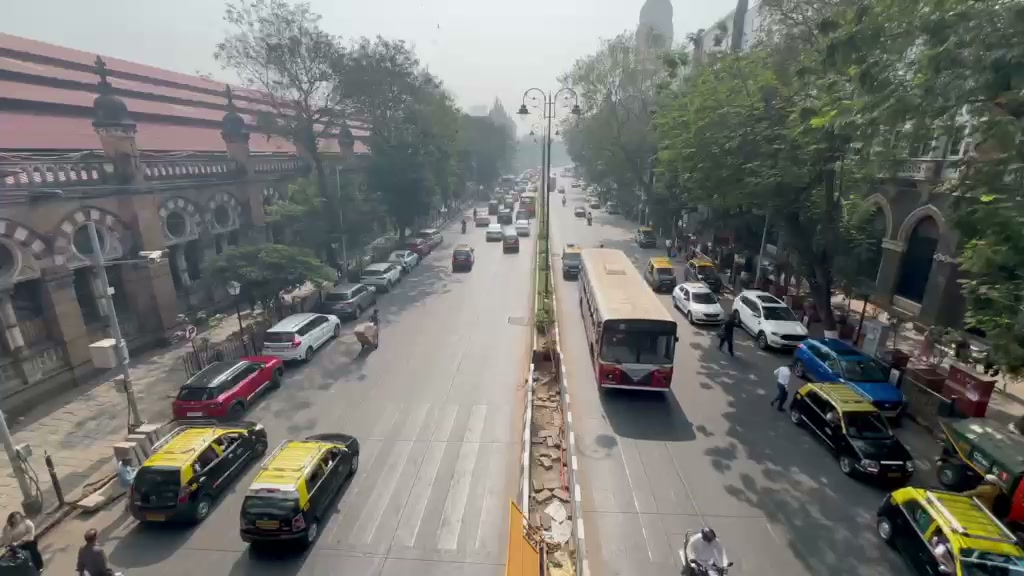bus: (577, 245, 679, 396)
car: (127, 422, 270, 525), (237, 431, 360, 547), (875, 486, 1024, 575), (788, 383, 915, 486), (790, 335, 908, 424), (936, 417, 1024, 527), (171, 354, 284, 422), (732, 290, 810, 352), (260, 311, 341, 365), (317, 280, 378, 322), (672, 281, 724, 327), (359, 262, 404, 293), (648, 257, 680, 294), (405, 230, 441, 256), (562, 243, 582, 281), (387, 249, 420, 271), (451, 244, 475, 272), (501, 226, 520, 253), (485, 224, 503, 241)
pedestrian: (2, 510, 44, 573), (685, 526, 731, 575), (76, 528, 114, 576), (718, 311, 737, 357)
truck: (788, 376, 916, 486)
